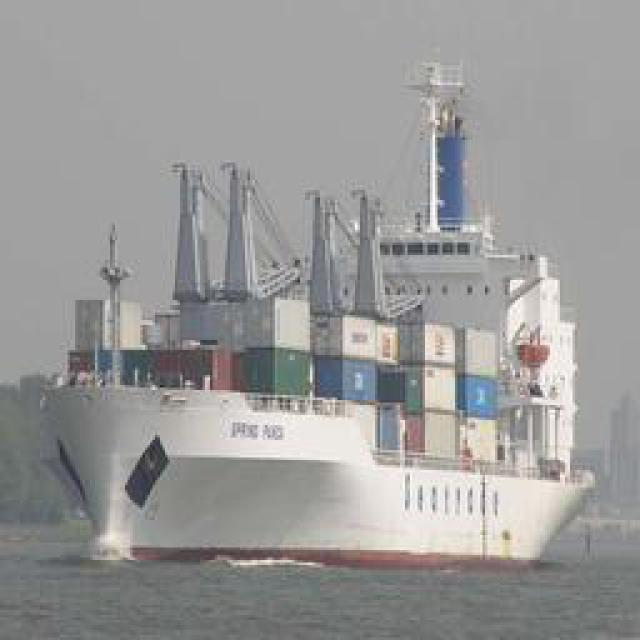Ship: (31, 348, 596, 576)
